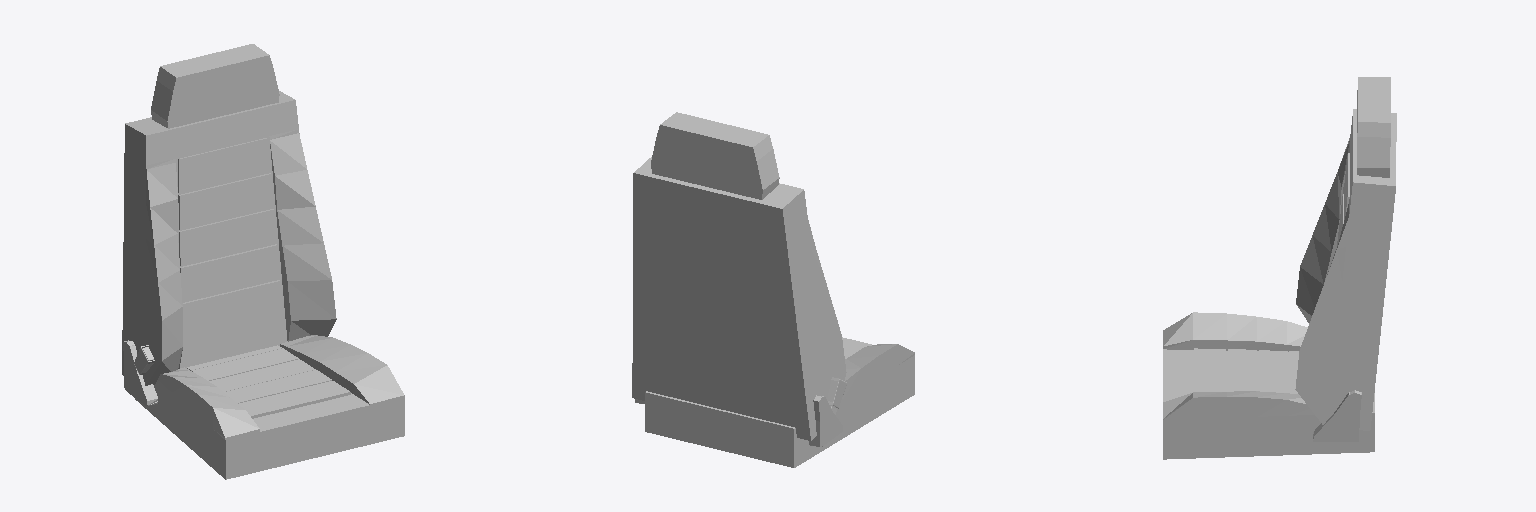
The model's file is car_seat_front_temp.obj.
3 views of the same model, side by side, from view 1: azimuth 30°, elevation 25°; view 2: azimuth 150°, elevation 25°; view 3: azimuth 270°, elevation 25° (orthographic).
Visible parts, largest first — view 1: Cube.001_Cube.007, Cube.002_Cube.008, Cube.003_Cube.009, Cube.005_Cube.002; view 2: Cube.001_Cube.007, Cube.002_Cube.008, Cube.003_Cube.009, Cube.005_Cube.002; view 3: Cube.002_Cube.008, Cube.001_Cube.007, Cube.003_Cube.009, Cube.004_Cube.
Boxes of the visible parts, box(x1,y1,x2,y2) form: Cube.001_Cube.007: box(122, 91, 336, 385); Cube.002_Cube.008: box(135, 335, 404, 479); Cube.003_Cube.009: box(151, 44, 279, 128); Cube.005_Cube.002: box(123, 340, 158, 405); Cube.001_Cube.007: box(632, 157, 846, 440); Cube.002_Cube.008: box(645, 337, 914, 467); Cube.003_Cube.009: box(651, 112, 779, 199); Cube.005_Cube.002: box(809, 395, 842, 446); Cube.002_Cube.008: box(1163, 312, 1374, 459); Cube.001_Cube.007: box(1295, 109, 1396, 430); Cube.003_Cube.009: box(1357, 77, 1390, 177); Cube.004_Cube: box(1313, 390, 1361, 441).
Size of the model in its own units: 1.97 by 3.22 by 2.13.